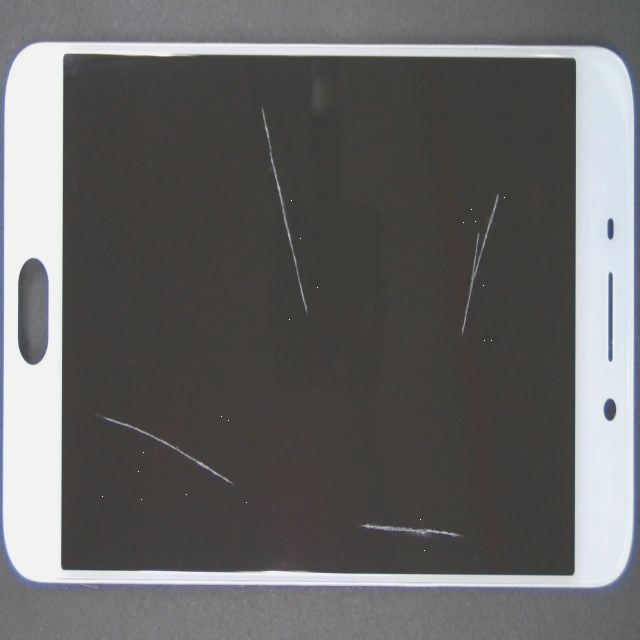scratch: (233, 184, 640, 551), (200, 244, 526, 640), (0, 182, 215, 640), (128, 16, 388, 174)
